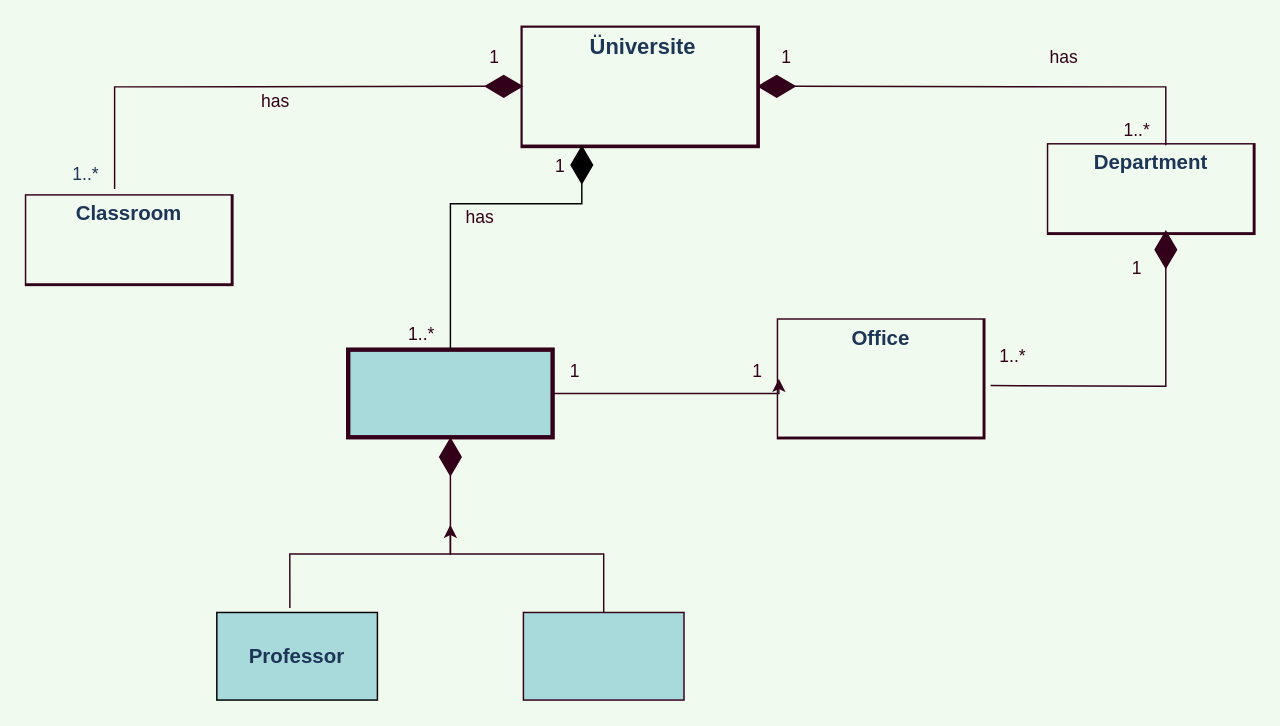
The diagram is 1280 pixels wide and 726 high, and some of its shapes have lost their labels. Here are the shapes that lost their labels. From the top down, the centre of each, then its label:
At (449,393): "Employee".
At (603,655): "Officer".
